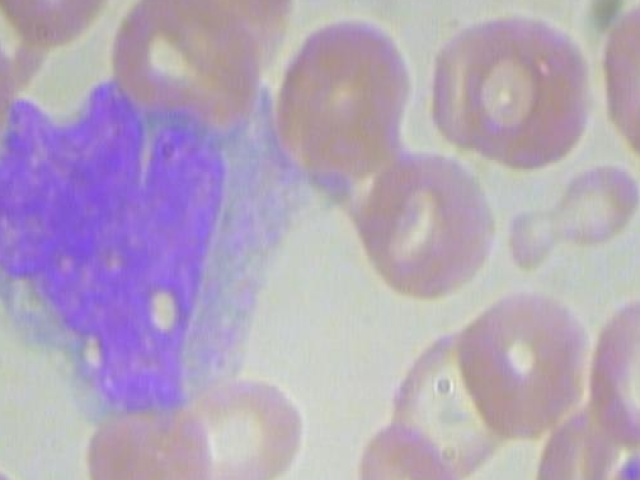RBC: (332, 150, 507, 313), (566, 280, 640, 464), (350, 408, 469, 480), (0, 0, 124, 63), (586, 440, 640, 480)
WBC: (0, 75, 323, 436)
